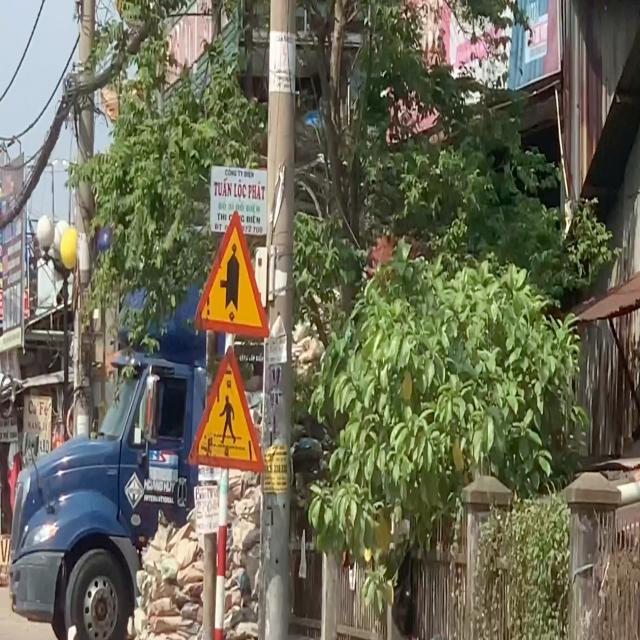Giao voi duong khong uu tien: (194, 208, 270, 339)
Nguoi di bo cat ngang: (186, 344, 266, 473)
